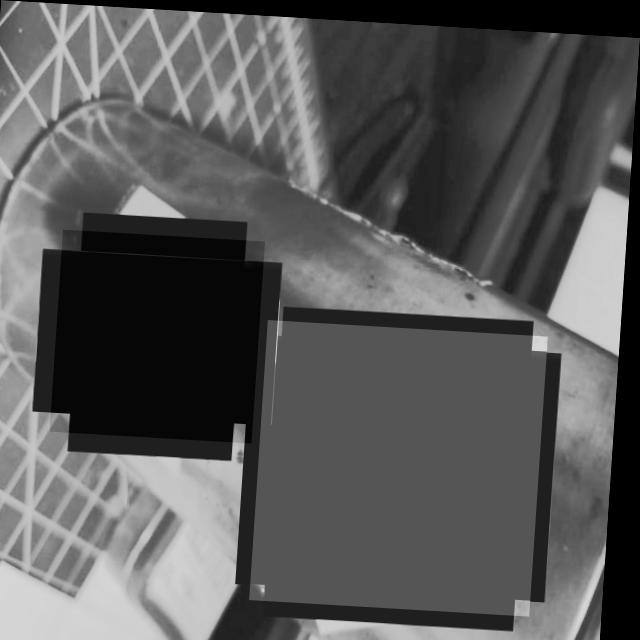qr_code: (256, 317, 551, 610), (55, 229, 267, 440)
